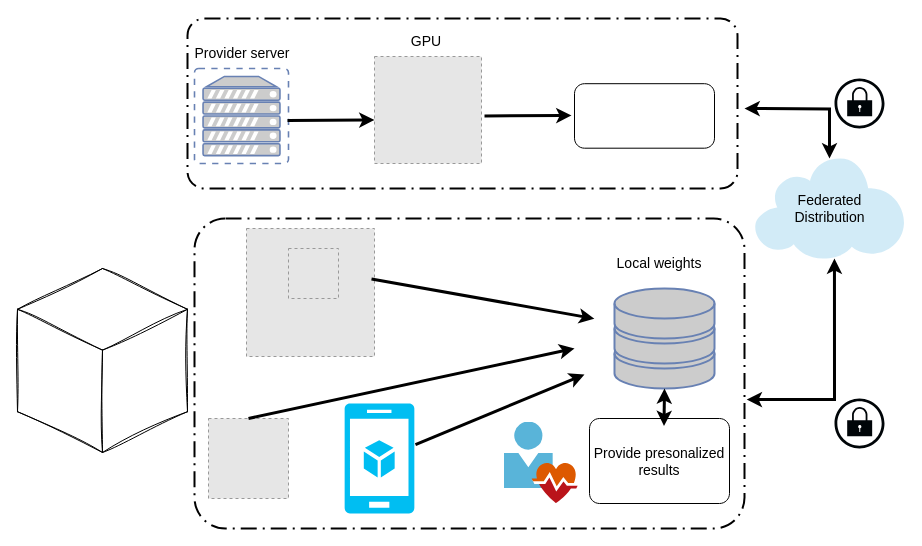
The diagram is 922 pixels wide and 546 high, and some of its shapes have lost their labels. Grey dashed boxes stand in for pictures. The shapes that lost their labels are listed below. From the top down, each one's centre as x and y in pixels, then its label:
At (644,115): "Health status calculation".
At (102,360): "IPFS".
